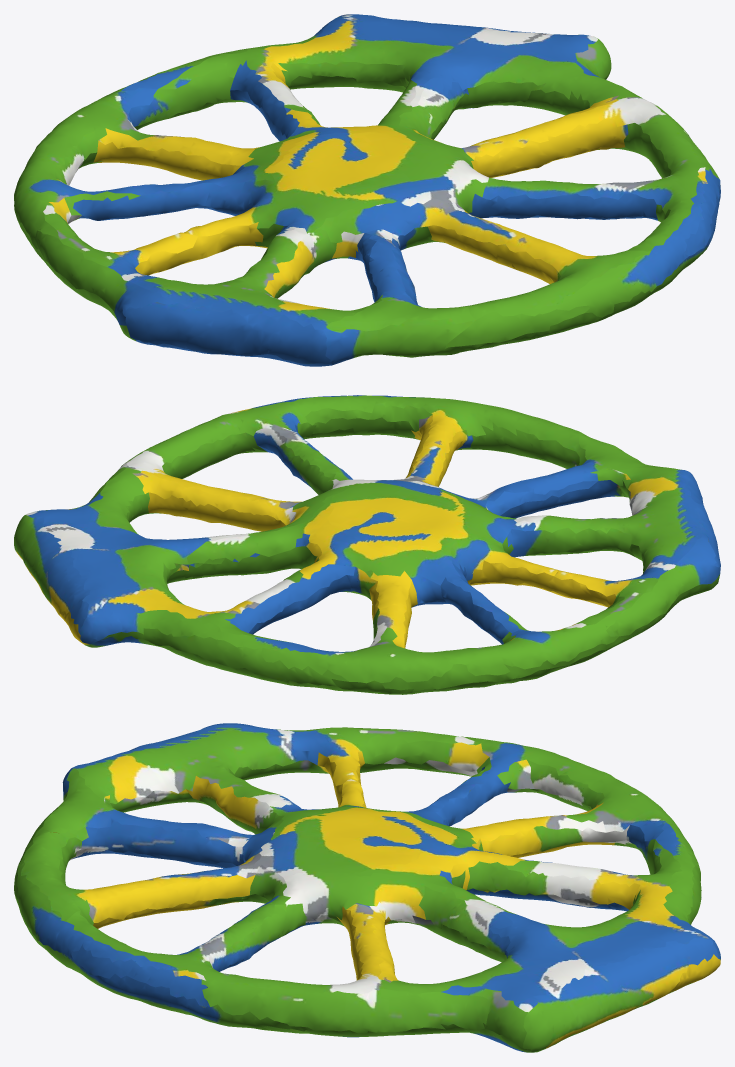
File: target.glb
3 views of the same model, one above another, from view 1: azimuth 30°, elevation 25°; view 2: azimuth 150°, elevation 25°; view 3: azimuth 270°, elevation 25° (orthographic). The views are drawn at different scales.
Parts seen in each view (by area): view 1: geometry_0; view 2: geometry_0; view 3: geometry_0.
Part boxes in pixels (x1,y1,x2,y2): geometry_0: (14, 14, 720, 366); geometry_0: (14, 395, 720, 694); geometry_0: (14, 723, 720, 1052).
Size of the model in its own units: 0.8783 by 0.0832 by 0.866.
1 material, 1 textured.
